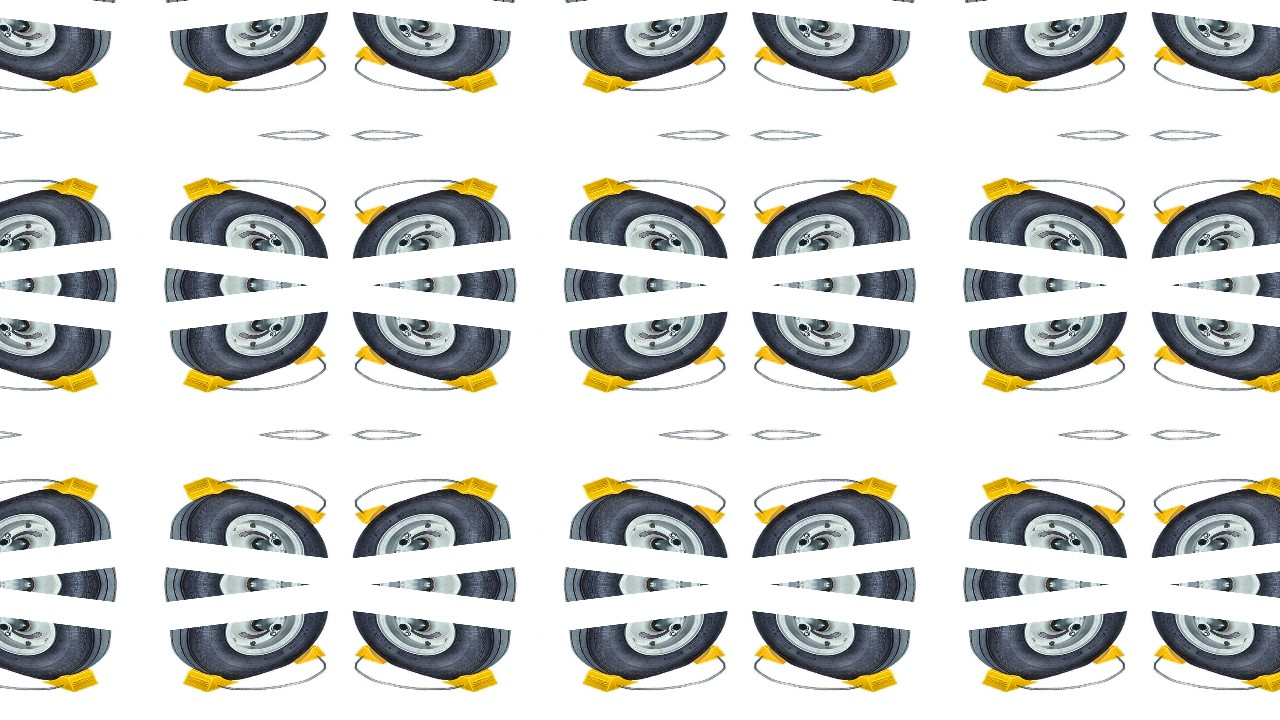chock: (41, 64, 99, 95), (181, 64, 239, 95), (441, 64, 499, 95), (581, 64, 639, 95), (841, 64, 899, 95), (981, 64, 1039, 95), (41, 175, 99, 206), (181, 175, 239, 206), (441, 175, 499, 206), (581, 175, 639, 206), (841, 175, 899, 206), (981, 175, 1039, 206), (41, 364, 99, 395), (181, 364, 239, 395), (441, 364, 499, 395), (581, 364, 639, 395), (841, 364, 899, 395), (981, 364, 1039, 395), (41, 475, 99, 506), (181, 475, 239, 506), (441, 475, 499, 506), (581, 475, 639, 506), (841, 475, 899, 506), (981, 475, 1039, 506), (41, 664, 99, 695), (181, 664, 239, 695), (441, 664, 499, 695), (581, 664, 639, 695), (841, 664, 899, 695), (981, 664, 1039, 695), (1241, 64, 1280, 95), (1241, 175, 1280, 206), (1241, 364, 1280, 395), (1241, 475, 1280, 506), (1241, 664, 1280, 695), (285, 42, 326, 66), (354, 42, 395, 66), (685, 42, 726, 66), (754, 42, 795, 66), (1085, 42, 1126, 66), (1154, 42, 1195, 66), (285, 204, 326, 228), (354, 204, 395, 228), (685, 204, 726, 228), (754, 204, 795, 228), (1085, 204, 1126, 228), (1154, 204, 1195, 228), (285, 342, 326, 366), (354, 342, 395, 366), (685, 342, 726, 366), (754, 342, 795, 366), (1085, 342, 1126, 366), (1154, 342, 1195, 366), (285, 504, 326, 528), (354, 504, 395, 528), (685, 504, 726, 528), (754, 504, 795, 528), (1085, 504, 1126, 528), (1154, 504, 1195, 528), (285, 642, 326, 666), (354, 642, 395, 666), (685, 642, 726, 666), (754, 642, 795, 666), (1085, 642, 1126, 666), (1154, 642, 1195, 666)
wheel: (168, 12, 335, 88), (345, 12, 512, 88), (568, 12, 735, 88), (745, 12, 912, 88), (968, 12, 1135, 88), (168, 182, 335, 258), (345, 182, 512, 258), (568, 182, 735, 258), (745, 182, 912, 258), (968, 182, 1135, 258), (168, 312, 335, 388), (345, 312, 512, 388), (568, 312, 735, 388), (745, 312, 912, 388), (968, 312, 1135, 388), (168, 482, 335, 558), (345, 482, 512, 558), (568, 482, 735, 558), (745, 482, 912, 558), (968, 482, 1135, 558), (168, 612, 335, 688), (345, 612, 512, 688), (568, 612, 735, 688), (745, 612, 912, 688), (968, 612, 1135, 688), (1145, 12, 1280, 88), (1145, 182, 1280, 258), (1145, 312, 1280, 388), (1145, 482, 1280, 558), (1145, 612, 1280, 688), (0, 12, 112, 88), (0, 182, 112, 258), (0, 312, 112, 388), (0, 482, 112, 558), (0, 612, 112, 688)
